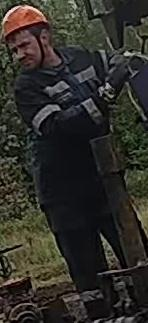gloves: (94, 49, 134, 110)
helmet: (0, 4, 50, 43)
vest: (13, 45, 102, 182)
